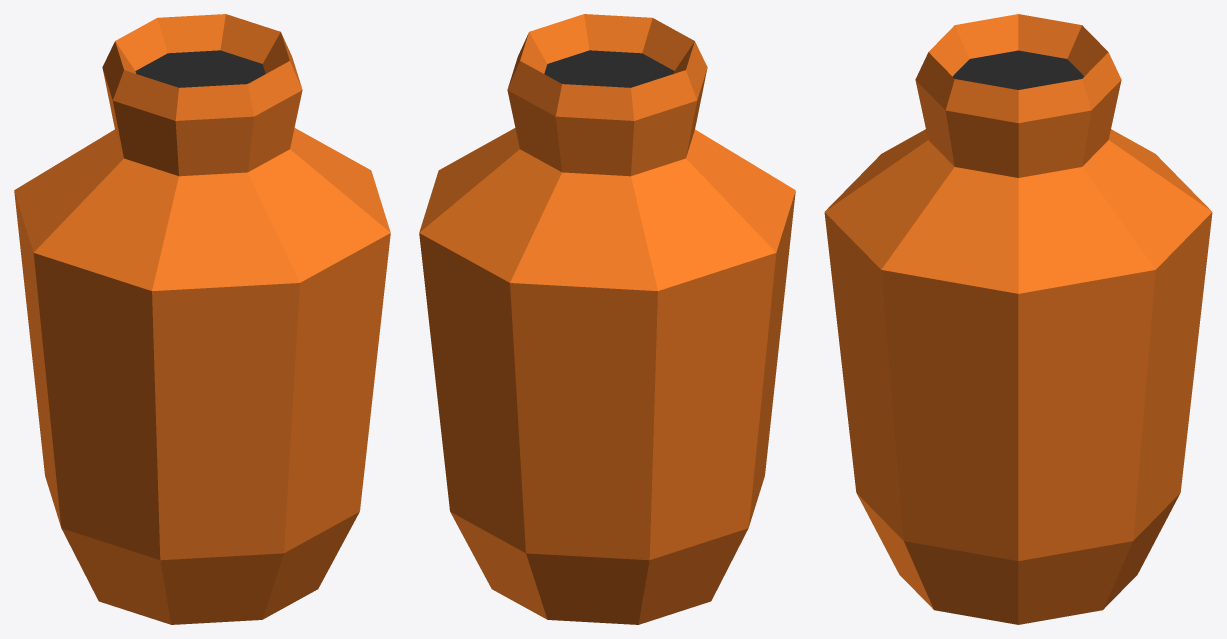
The model's file is fantasy_jar-medium.fbx.
3 views of the same model, side by side, from view 1: azimuth 30°, elevation 25°; view 2: azimuth 150°, elevation 25°; view 3: azimuth 270°, elevation 25° (orthographic).
Parts seen in each view (by area): view 1: fantasy_jar_medium; view 2: fantasy_jar_medium; view 3: fantasy_jar_medium.
Boxes of the visible parts, x1,y1,x2,y2 form: fantasy_jar_medium: (14, 14, 390, 624); fantasy_jar_medium: (419, 14, 795, 624); fantasy_jar_medium: (824, 14, 1212, 624).
Bounding box in the file's own units: 131 × 200 × 131.
